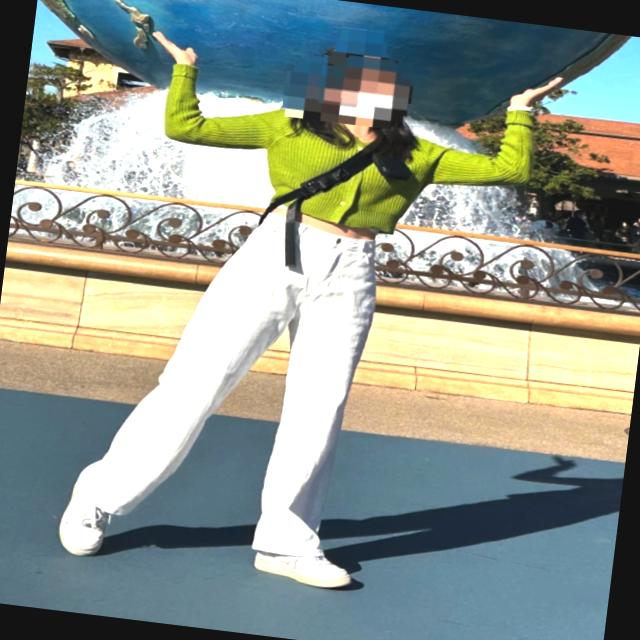cardigan: (153, 56, 540, 258)
cottonpants: (68, 197, 386, 555)
